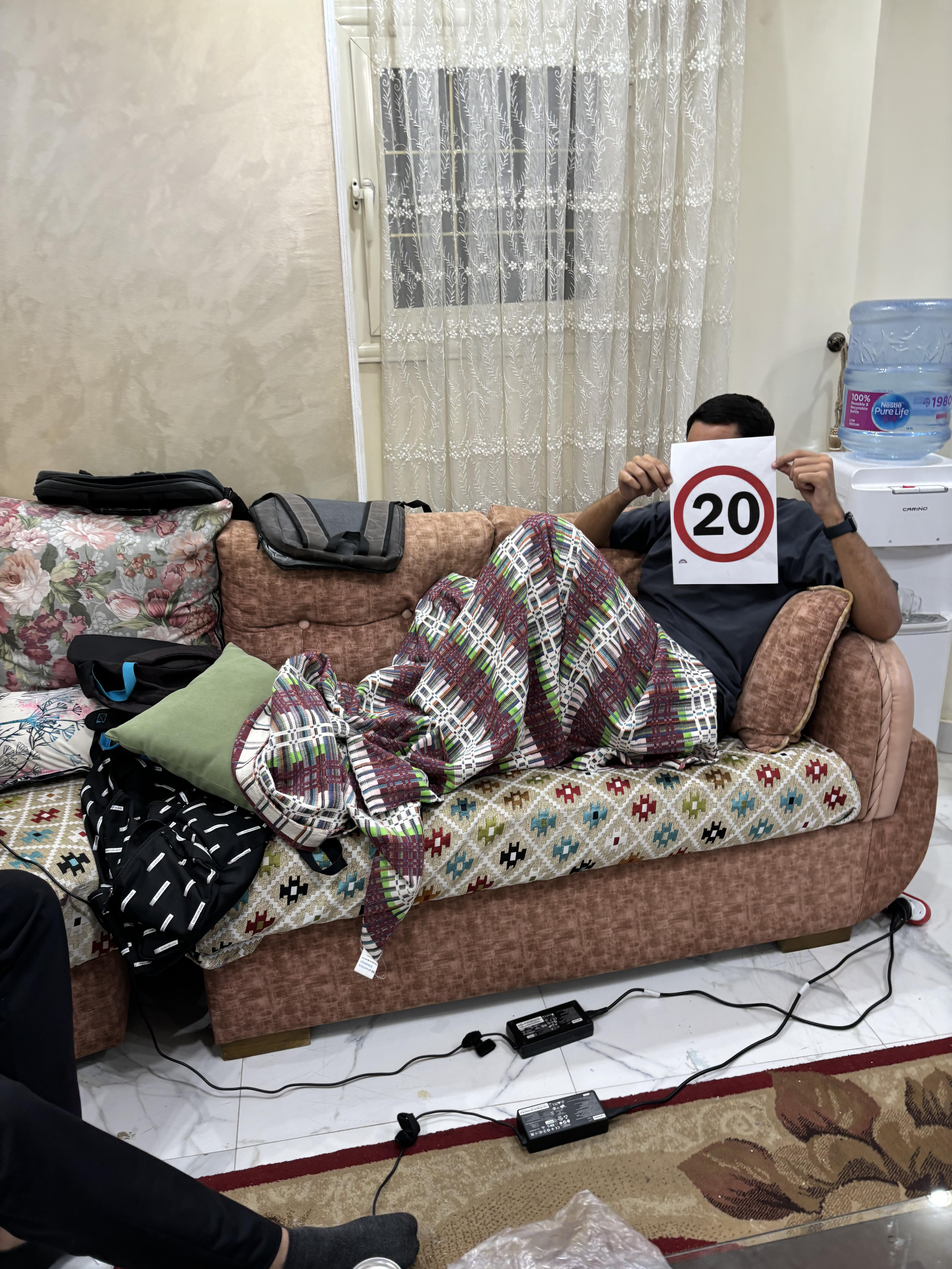20-Speed: (669, 454, 783, 570)
